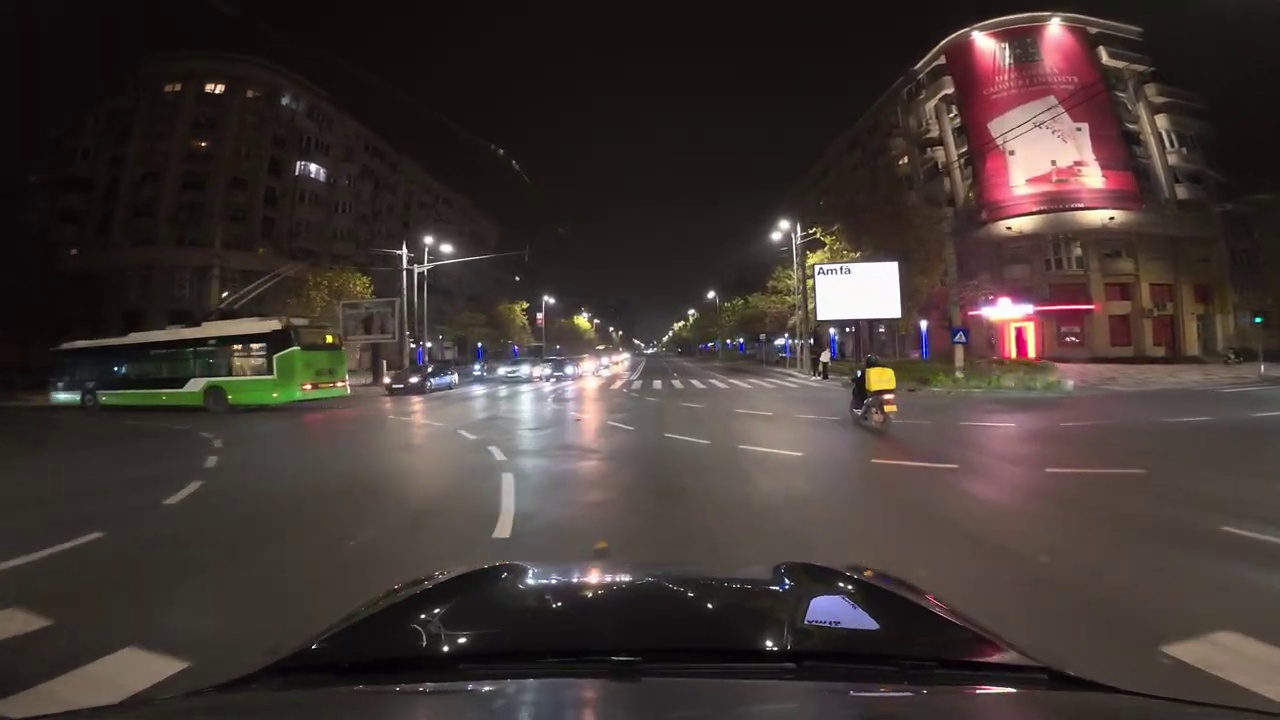acesa: (769, 218, 792, 242)
